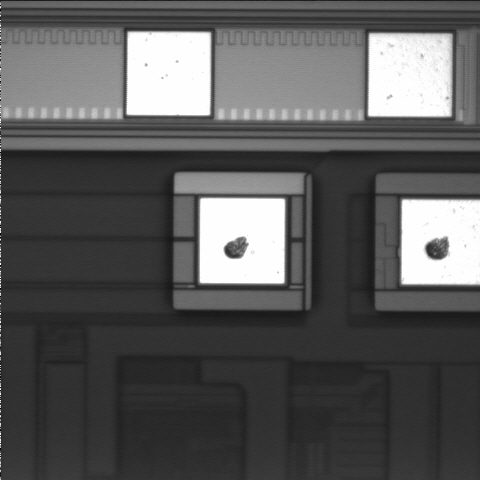pad: (200, 198, 285, 283), (127, 32, 211, 115), (368, 34, 451, 116)
